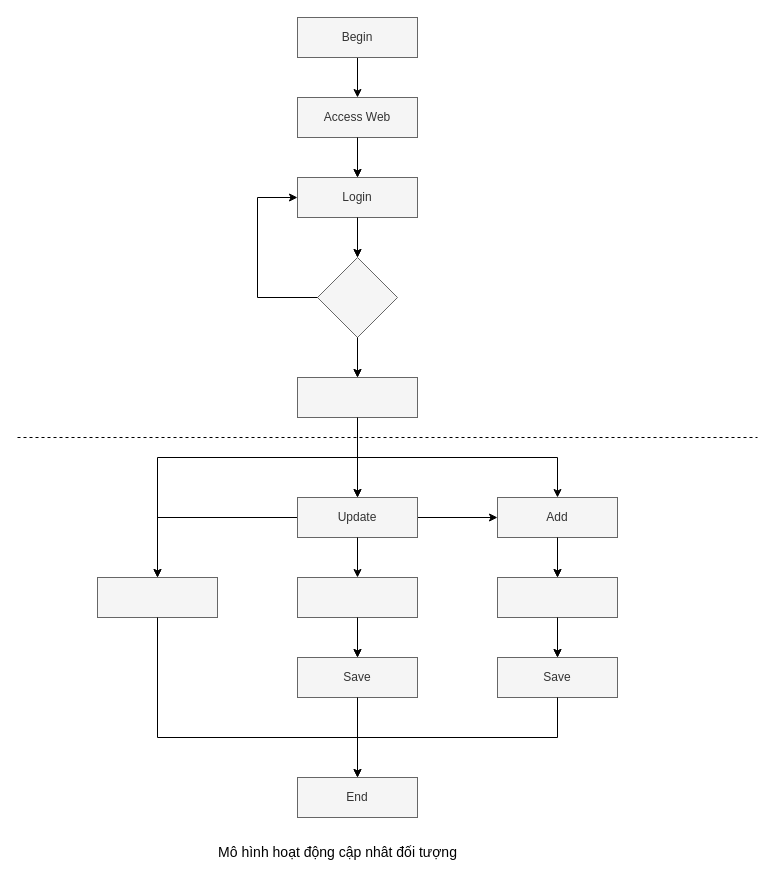
This 776x885 diagram has some shape labels left out. The box of each missing label's shape, as (x1, y1, x2, y2) in pixels:
Choosen: (296, 376, 418, 418)
Delete: (96, 576, 218, 618)
Edit: (296, 576, 418, 618)
Input Data: (496, 576, 618, 618)
